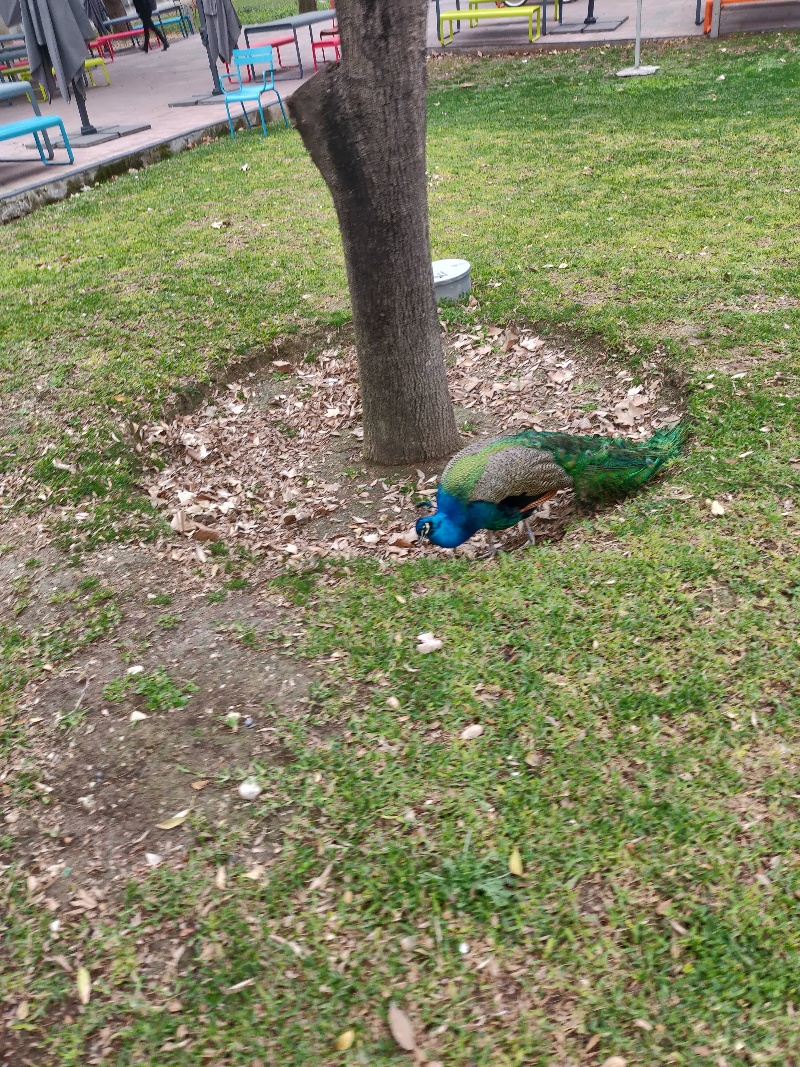pavoreal: (407, 431, 609, 562)
